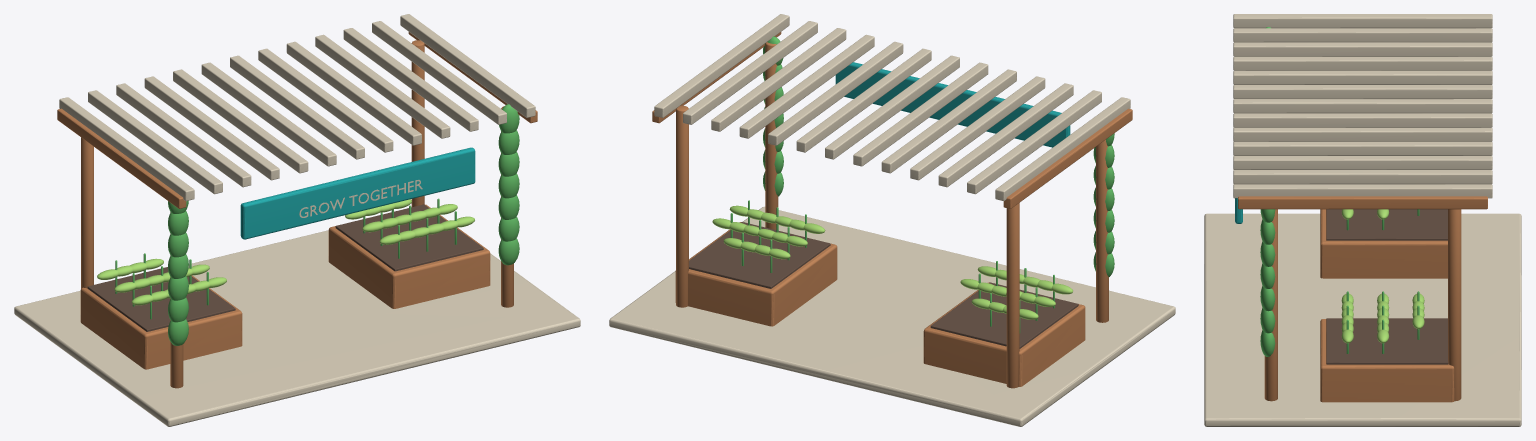
Rendered from Pavilion.fbx.
The picture shows the model from 3 angles, left to right: view 1: azimuth 30°, elevation 25°; view 2: azimuth 150°, elevation 25°; view 3: azimuth 270°, elevation 25°; orthographic projection. The views are drawn at different scales.
Parts seen in each view (by area): view 1: GEO-Body; view 2: GEO-Body; view 3: GEO-Body.
Part boxes in pixels (<box>): GEO-Body: <box>14,14,580,426</box>; GEO-Body: <box>609,14,1175,426</box>; GEO-Body: <box>1204,14,1521,426</box>.
Bounding box in the file's own units: 8 × 4.05 × 5.2.
